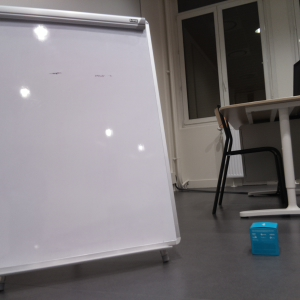big: (1, 11, 178, 277)
small: (249, 221, 281, 256)
